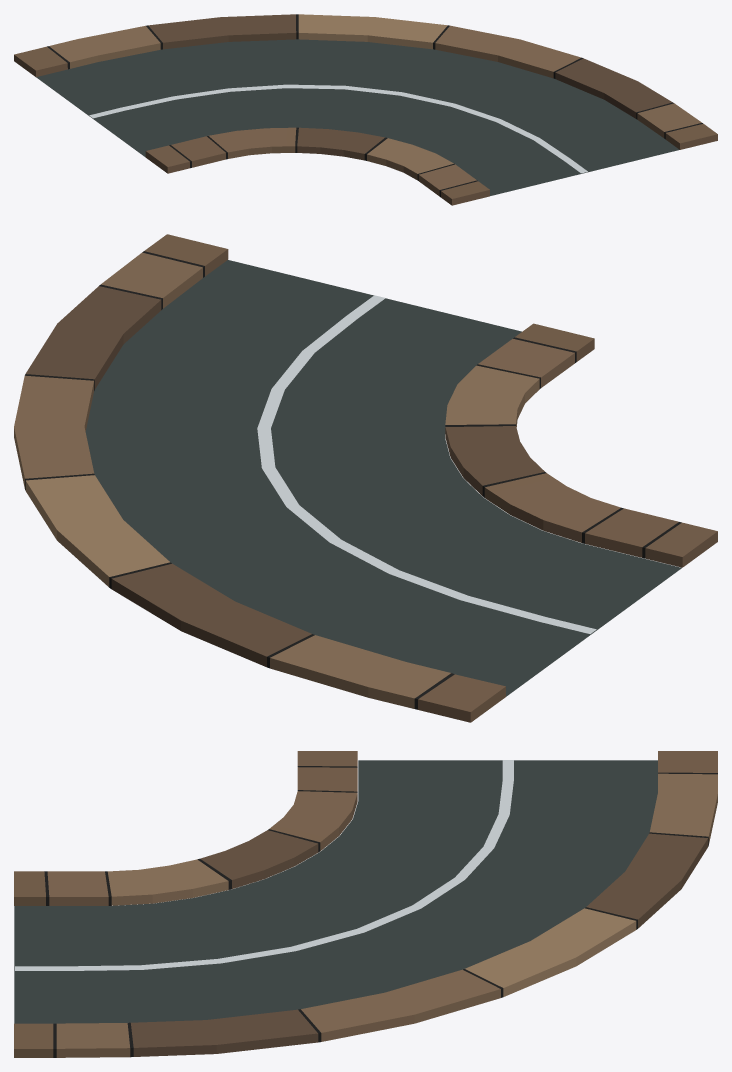
File: Road_1_103.fbx
3 views of the same model, one above another, from view 1: azimuth 30°, elevation 25°; view 2: azimuth 150°, elevation 25°; view 3: azimuth 270°, elevation 25° (orthographic). The views are drawn at different scales.
Parts seen in each view (by area): view 1: Road_1_103; view 2: Road_1_103; view 3: Road_1_103.
Part boxes in pixels (left/top/right/bottom): Road_1_103: left=14, top=14, right=717, bottom=205; Road_1_103: left=14, top=234, right=717, bottom=722; Road_1_103: left=14, top=751, right=717, bottom=1057.
Size of the model in its own units: 2113 by 30 by 2111.
